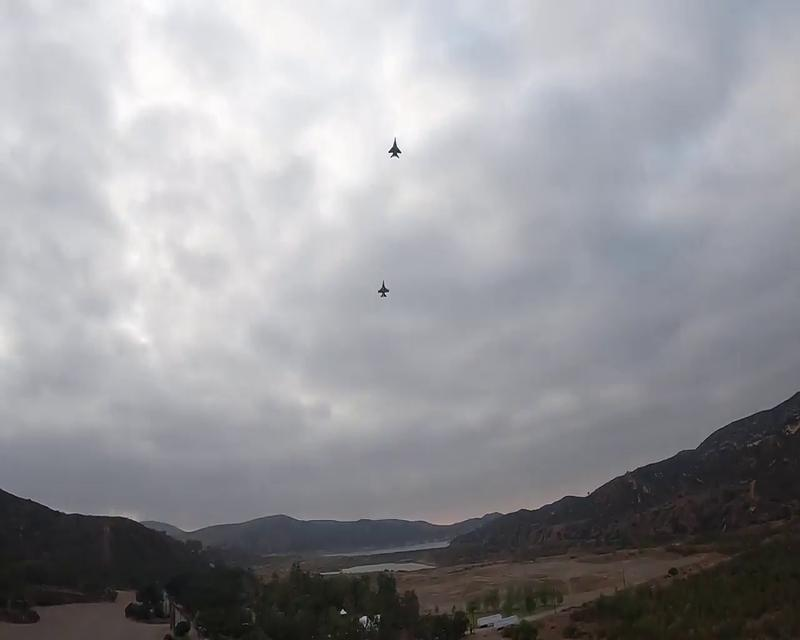UAV: (388, 136, 404, 160), (378, 279, 390, 299)
